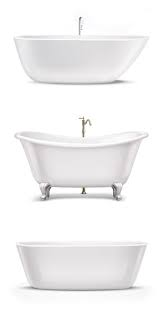bathub: (10, 114, 149, 201), (10, 14, 155, 89), (12, 230, 149, 301)
